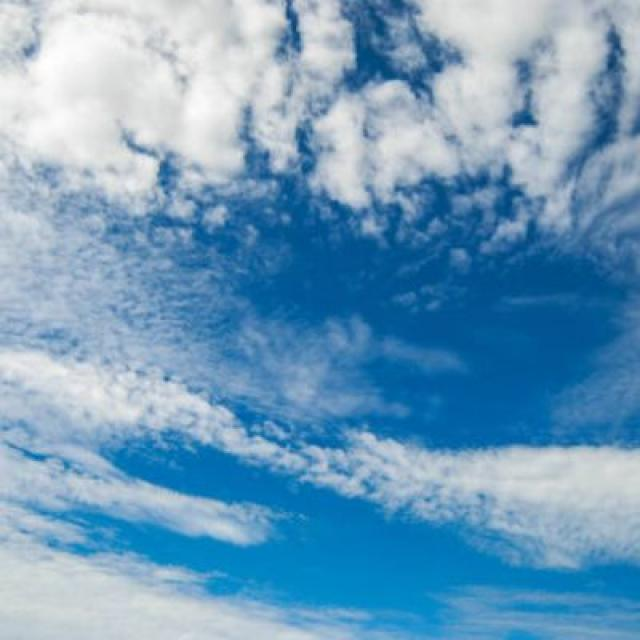As: (8, 4, 640, 594)
